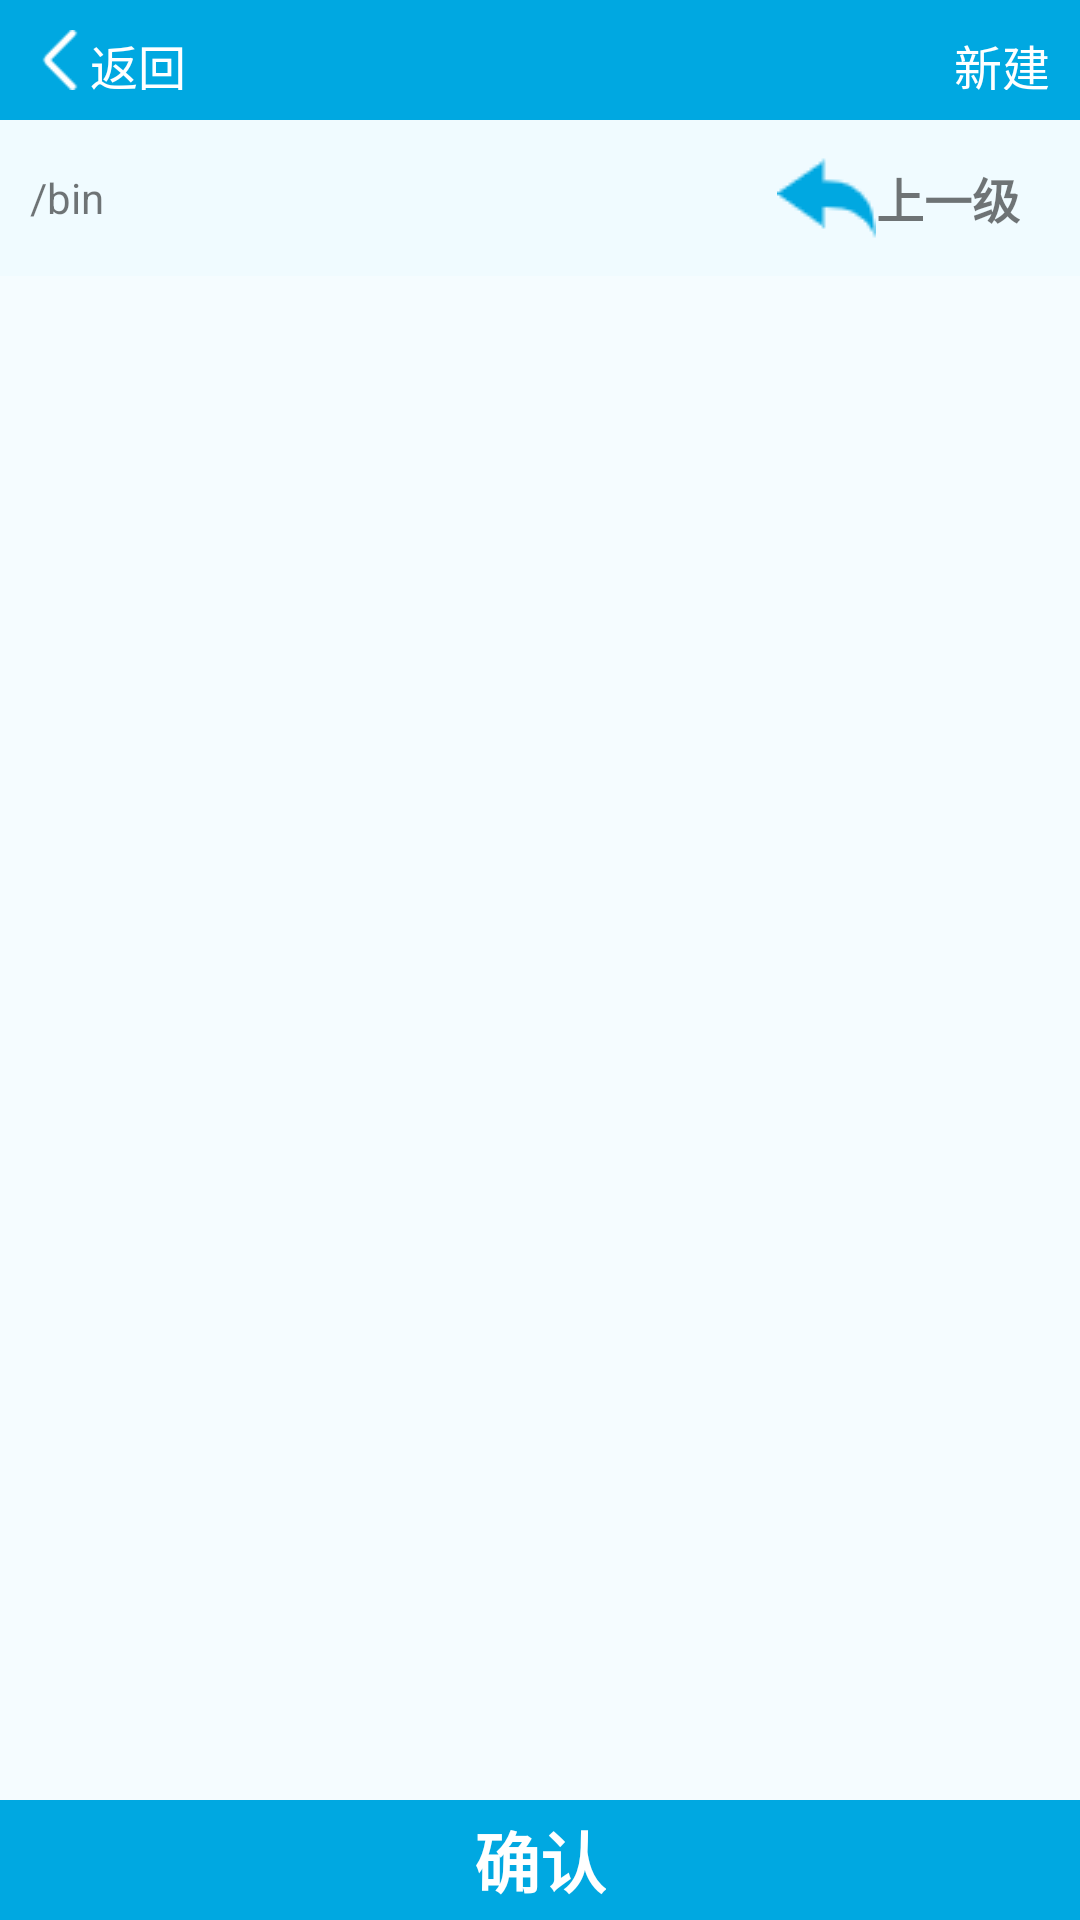

Named icons in this screenshot (1080×1920) and their bounding boxes, (x1=x1, y1=y1, x2=x2, y2=y2):
left arrows: (x1=43, y1=30, x2=77, y2=90)
